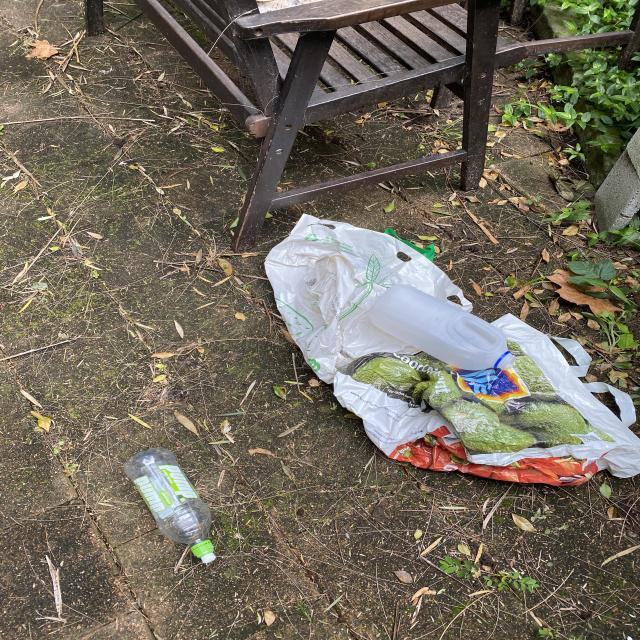bag: (263, 212, 640, 485)
bottle: (371, 284, 515, 372), (123, 448, 216, 564)
